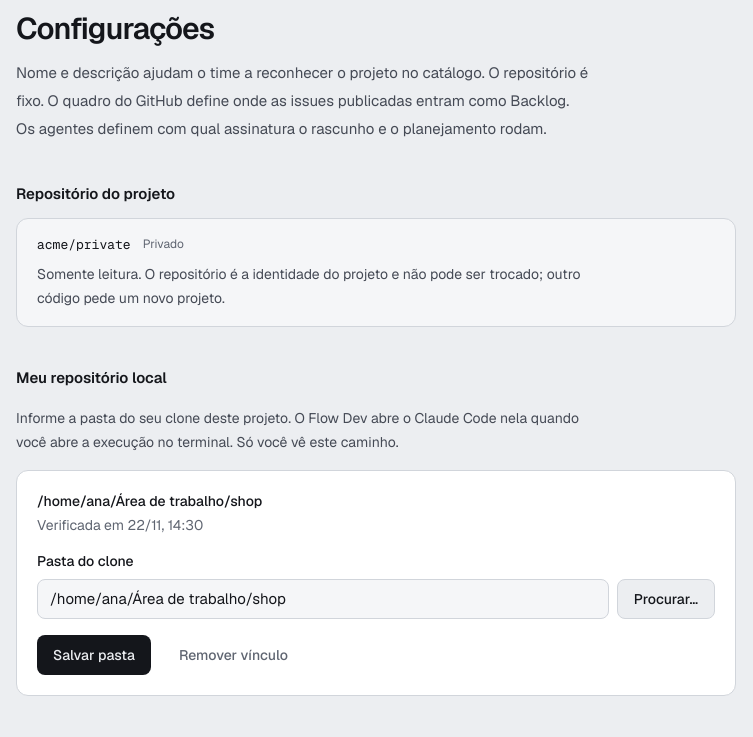
local checkout section › V-01o removes the link for a member who is not an admin
Step 1. Click the button "Remover vínculo" → (233, 654), box [163,634,304,674]
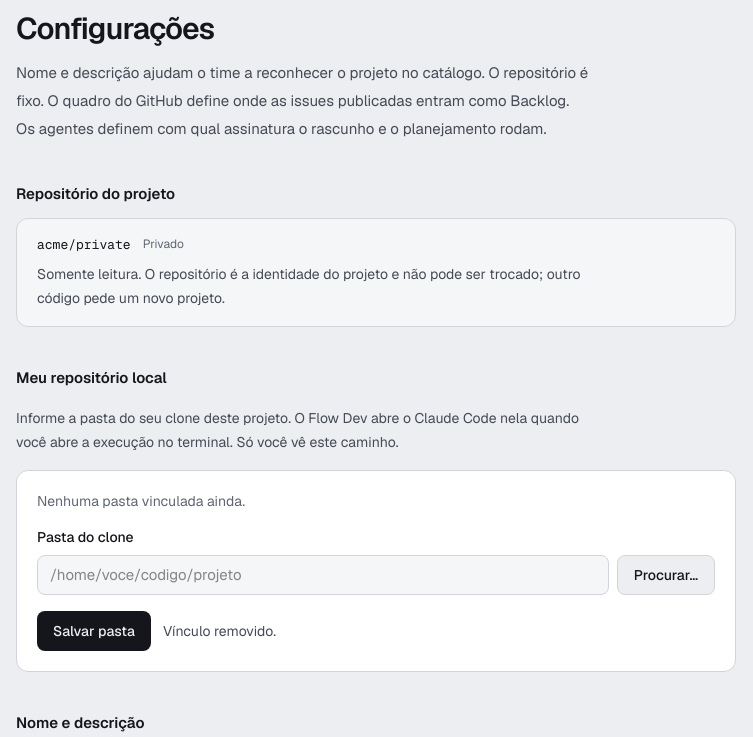
Check: the text "Nenhuma pasta vinculada ainda." is shown, box [37,492,245,510]
Check: the field labelled "Pasta do clone" is empty, box [37,554,609,594]
